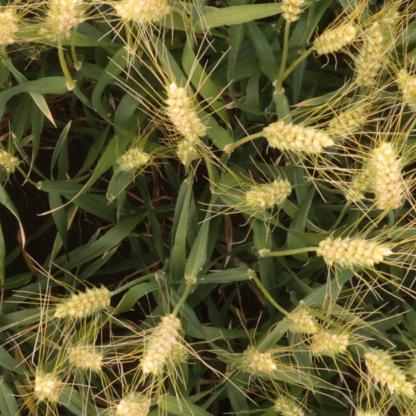whd: (159, 78, 213, 146), (310, 233, 398, 270), (259, 118, 337, 158), (137, 312, 184, 377), (364, 345, 416, 402), (349, 19, 390, 90), (370, 139, 406, 212), (323, 99, 377, 141), (52, 283, 113, 320), (308, 21, 363, 58), (342, 150, 377, 208), (240, 176, 294, 212), (38, 0, 80, 45), (106, 0, 174, 26), (371, 6, 405, 58), (304, 326, 354, 356), (61, 341, 106, 373), (29, 366, 65, 406), (391, 64, 416, 118), (282, 306, 323, 338), (240, 343, 280, 374), (113, 146, 154, 174), (112, 390, 155, 416), (172, 135, 200, 171), (0, 3, 22, 47), (272, 392, 306, 416), (274, 0, 306, 24), (58, 0, 83, 29), (0, 150, 21, 174)
